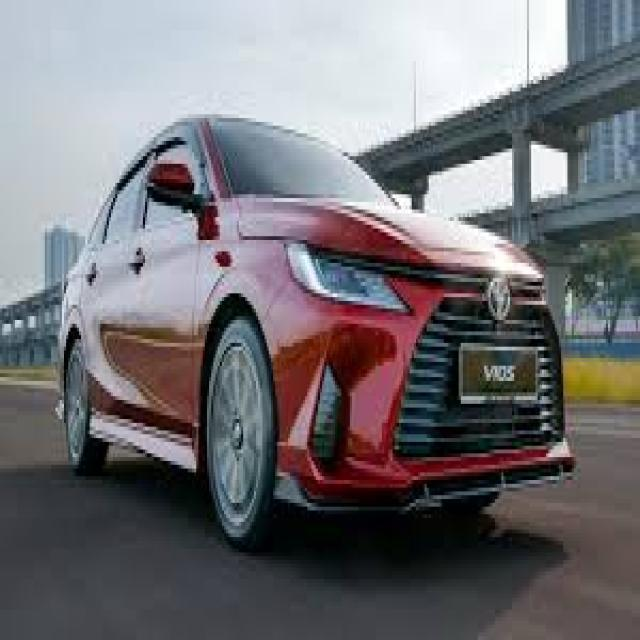ToyotaVios: (52, 112, 576, 552)
